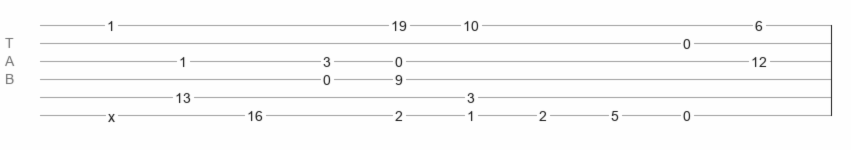0: (323, 72, 331, 82), (395, 54, 403, 64), (683, 108, 691, 118), (683, 36, 691, 46)
1: (107, 18, 115, 28), (179, 54, 187, 64), (467, 108, 475, 118)
10: (463, 18, 479, 28)
12: (751, 54, 767, 64)
13: (175, 90, 191, 100)
16: (247, 108, 263, 118)
19: (391, 18, 407, 28)
2: (395, 108, 403, 118), (539, 108, 547, 118)
3: (323, 54, 331, 64), (467, 90, 475, 100)
5: (611, 108, 619, 118)
6: (755, 18, 763, 28)
9: (395, 72, 403, 82)
x: (108, 109, 115, 117)
